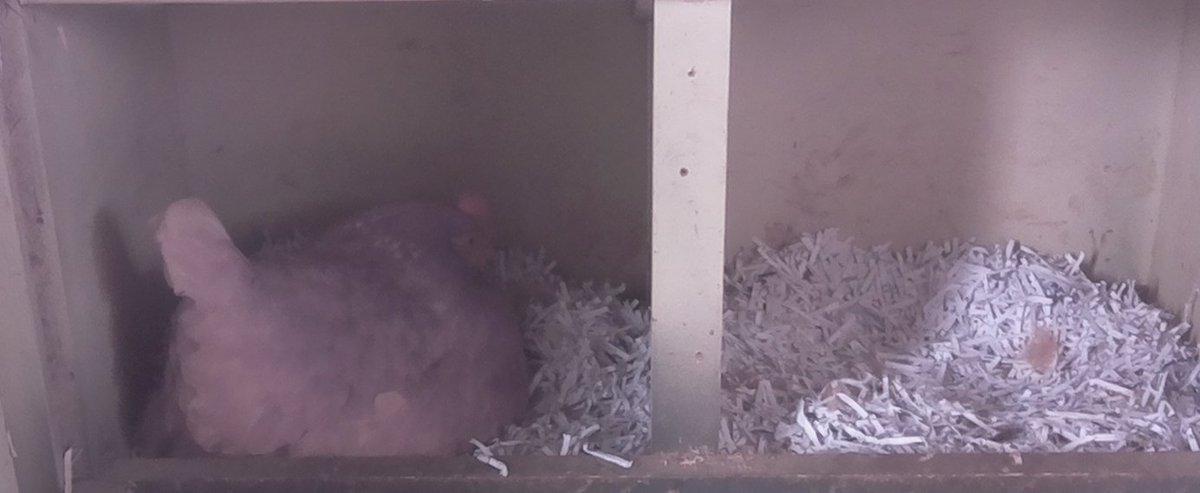hen: (155, 187, 536, 454)
